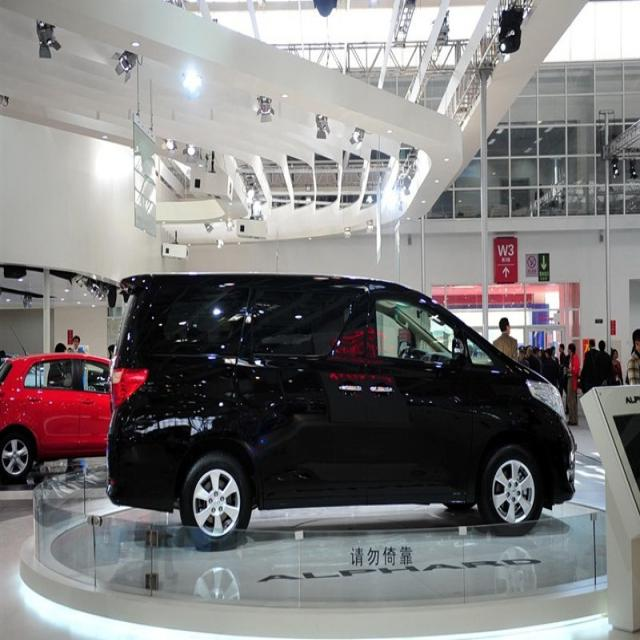back_right_side_light: (108, 362, 150, 413)
door: (227, 284, 381, 496)
front_right_side_door: (368, 282, 475, 499)
front_right_side_light: (521, 370, 568, 420)
front_right_side_mirror: (447, 327, 470, 366)
wheel: (187, 450, 250, 552), (480, 442, 544, 538)
